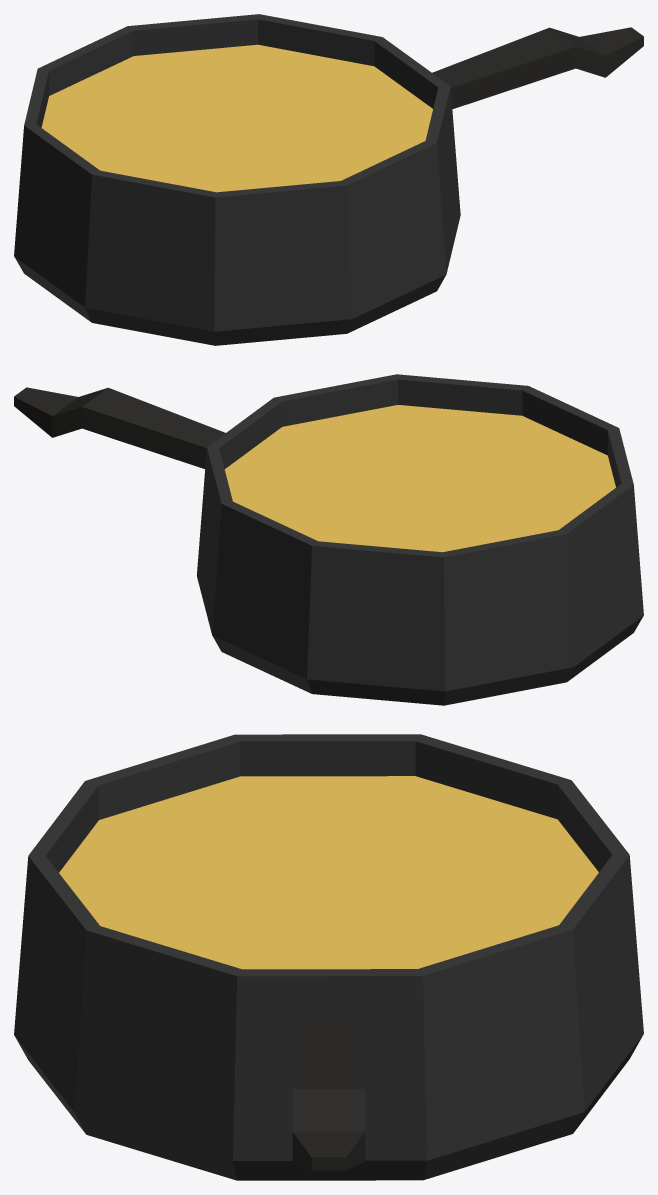
Rendered from Cooker_1.fbx.
The picture shows the model from 3 angles, top to bottom: view 1: azimuth 30°, elevation 25°; view 2: azimuth 150°, elevation 25°; view 3: azimuth 270°, elevation 25°; orthographic projection. The views are drawn at different scales.
Parts seen in each view (by area): view 1: polySurface1542; view 2: polySurface1542; view 3: polySurface1542.
Part boxes in pixels (box(x1,y1,x2,y2)): polySurface1542: box(14, 14, 643, 345); polySurface1542: box(14, 374, 643, 705); polySurface1542: box(14, 734, 643, 1180).
Size of the model in its own units: 0.6233 by 0.15 by 0.419.
1 material, 1 textured.
